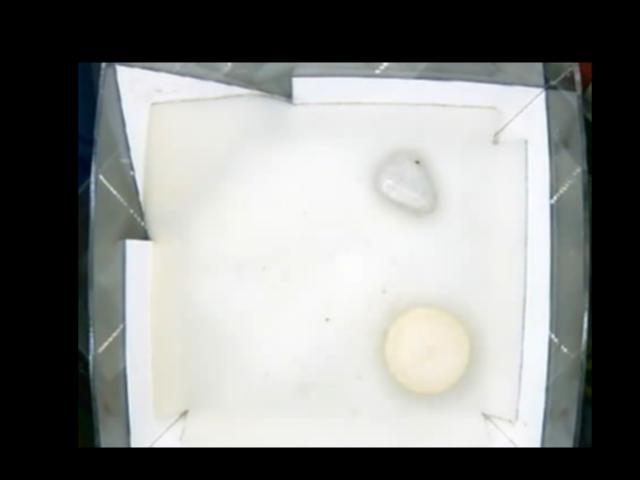Mooli: (383, 307, 467, 394)
Pebble: (376, 145, 436, 215)
